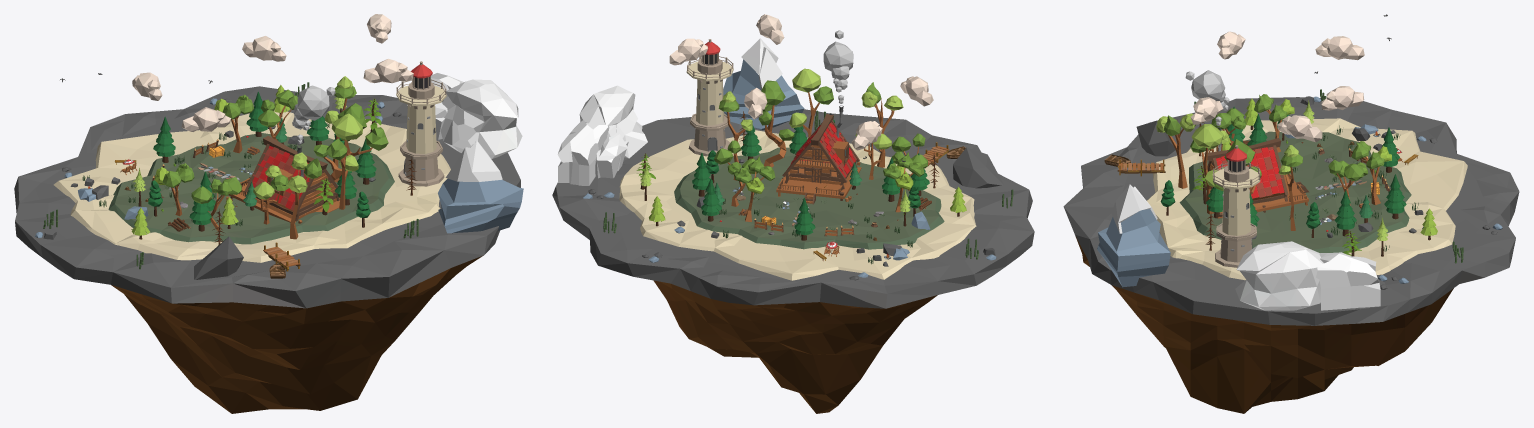
File: Floating Port-transformed.glb
3 views of the same model, side by side, from view 1: azimuth 30°, elevation 25°; view 2: azimuth 150°, elevation 25°; view 3: azimuth 270°, elevation 25° (orthographic). The views are drawn at different scales.
Visible parts, largest first — view 1: Floting Base, Rock, Big Rock, Light House, M_House, Tree, M_Tree 5, M_Smoke, M_Tree 6, M_Tree_4, M_Tree 1-1, M_Tree 2 (+12 smaller); view 2: Floting Base, Big Rock, Rock, M_House, Light House, M_Tree 5, M_Tree 6, M_Smoke, Tree, M_Tree 3-1, M_Tree 3, M_Tree_4 (+12 smaller); view 3: Floting Base, Big Rock, Rock, Light House, M_House, Tree, M_Tree 5, M_Smoke, M_Tree_4, M_Tree 3-1, M_Cloud-1, M_Cloud-2 (+11 smaller).
Part boxes in pixels (x1,y1,x2,y2): Floting Base: [14, 86, 520, 413]; Rock: [84, 98, 523, 279]; Big Rock: [407, 73, 522, 158]; Light House: [396, 61, 446, 186]; M_House: [228, 135, 339, 223]; Tree: [148, 97, 381, 228]; M_Tree 5: [326, 113, 362, 209]; M_Smoke: [292, 85, 335, 143]; M_Tree 6: [313, 103, 388, 182]; M_Tree_4: [287, 152, 321, 239]; M_Tree 1-1: [191, 177, 241, 230]; M_Tree 2: [253, 165, 288, 224]; Floting Base: [552, 109, 1034, 413]; Big Rock: [557, 85, 647, 185]; Rock: [642, 38, 1003, 260]; M_House: [776, 105, 861, 204]; Light House: [686, 39, 733, 156]; M_Tree 5: [789, 68, 833, 138]; M_Tree 6: [758, 80, 794, 167]; M_Smoke: [823, 30, 853, 103]; Tree: [636, 126, 920, 216]; M_Tree 3-1: [734, 156, 775, 221]; M_Tree 3: [883, 152, 924, 212]; M_Tree_4: [861, 82, 903, 167]; Floting Base: [1063, 97, 1519, 413]; Big Rock: [1235, 241, 1380, 310]; Rock: [1097, 120, 1497, 287]; Light House: [1212, 145, 1260, 267]; M_House: [1199, 127, 1309, 218]; Tree: [1206, 114, 1387, 256]; M_Tree 5: [1190, 124, 1223, 214]; M_Smoke: [1185, 70, 1229, 125]; M_Tree_4: [1156, 113, 1195, 188]; M_Tree 3-1: [1351, 141, 1391, 205]; M_Cloud-1: [1315, 36, 1364, 60]; M_Cloud-2: [1277, 115, 1322, 142].
Size of the model in its own units: 31.88 by 23.88 by 27.85.
Materials: 1 (1 with a texture image).
